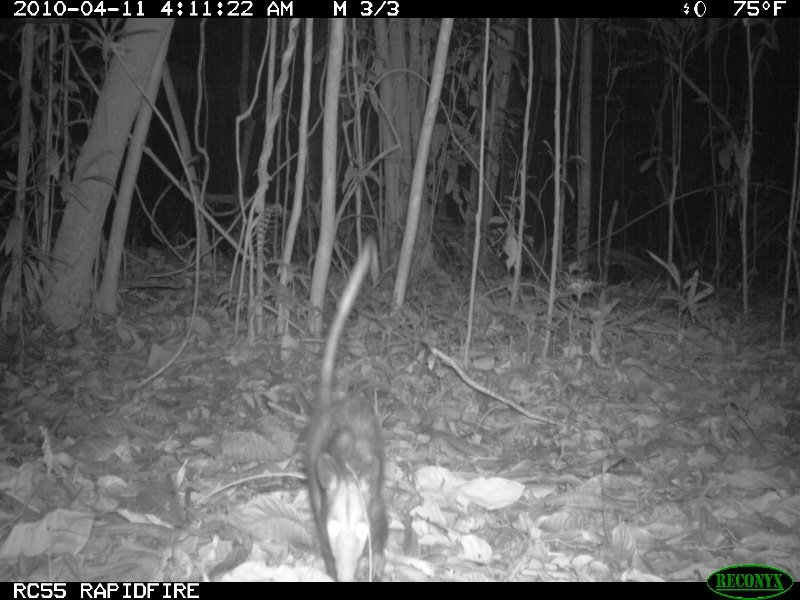opossum: (296, 237, 401, 577)
